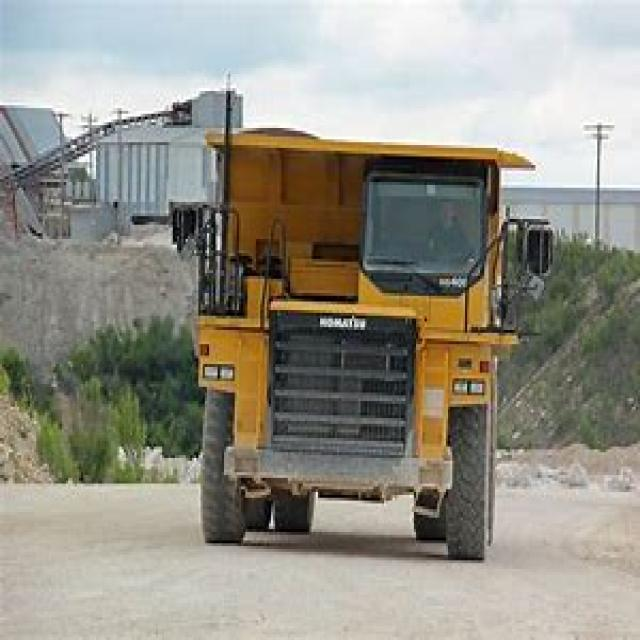dump_truck: (168, 85, 538, 558)
